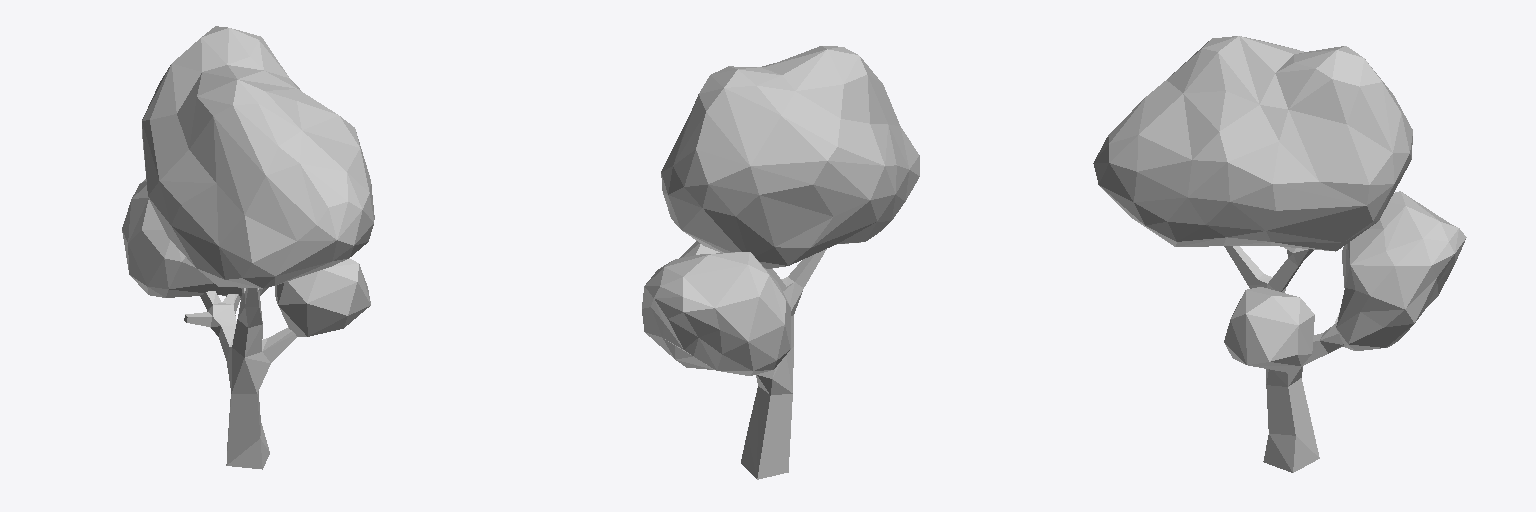
Rendered from tree_lvl_16.obj.
The picture shows the model from 3 angles: view 1: azimuth 30°, elevation 25°; view 2: azimuth 150°, elevation 25°; view 3: azimuth 270°, elevation 25°; orthographic projection.
Bounding box in the file's own units: 6.73 × 12.47 × 10.19.